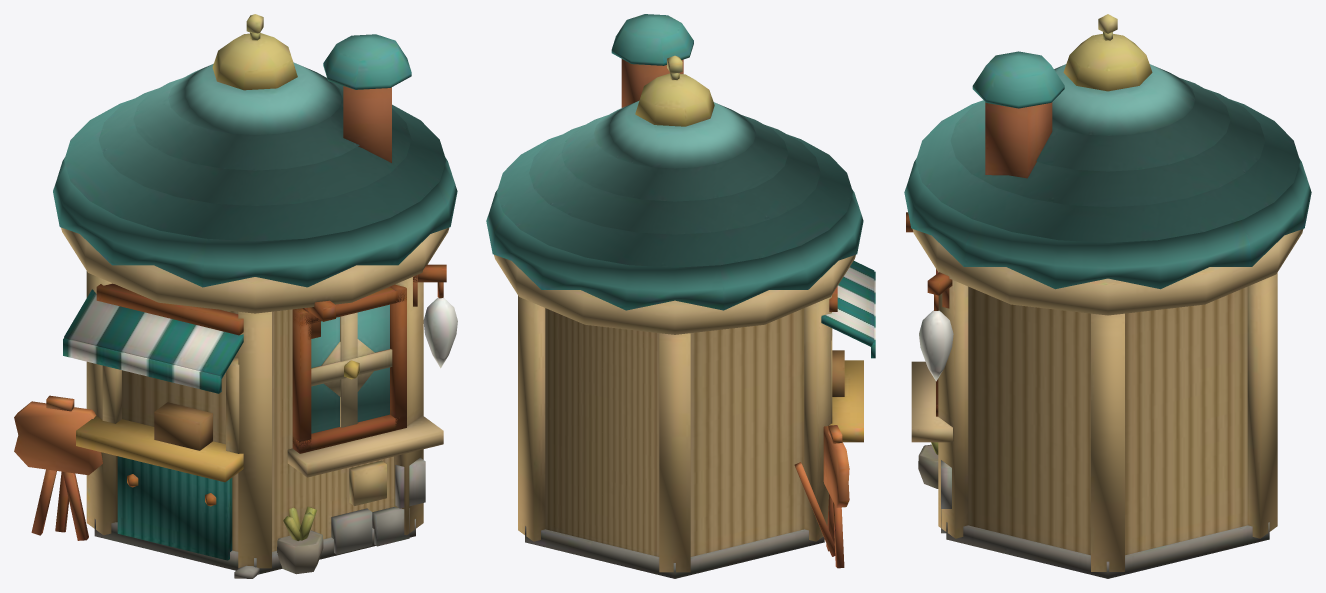
The model's file is kiosk_3_low.glb.
The picture shows the model from 3 angles, left to right: view 1: azimuth 30°, elevation 25°; view 2: azimuth 150°, elevation 25°; view 3: azimuth 270°, elevation 25°; orthographic projection. The views are drawn at different scales.
Visible parts, largest first — view 1: kiosk_3; view 2: kiosk_3; view 3: kiosk_3.
Part boxes in pixels (left/top/right/bottom): kiosk_3: left=14, top=14, right=457, bottom=578; kiosk_3: left=486, top=14, right=875, bottom=578; kiosk_3: left=904, top=14, right=1311, bottom=578.
Size of the model in its own units: 1.2 by 1.43 by 1.08.
Materials: 1 (1 with a texture image).
